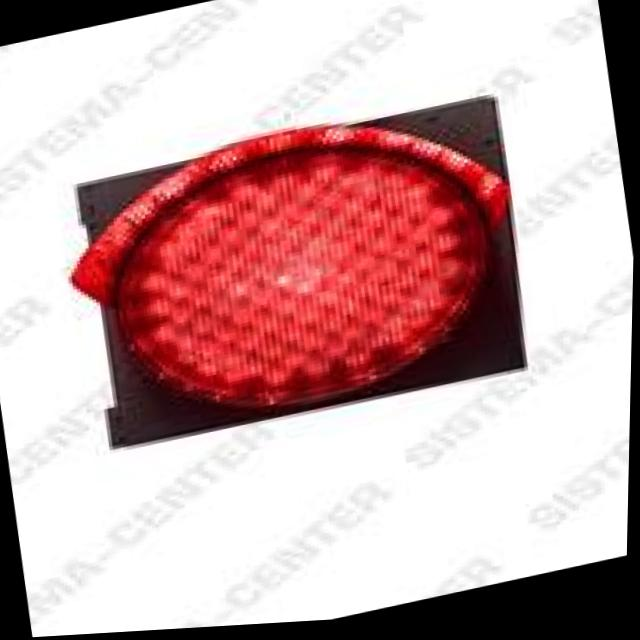red_light: (21, 68, 638, 559)
